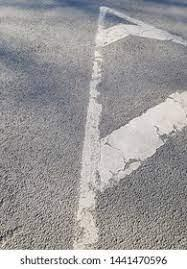faded_road_lines: (72, 5, 187, 253)
